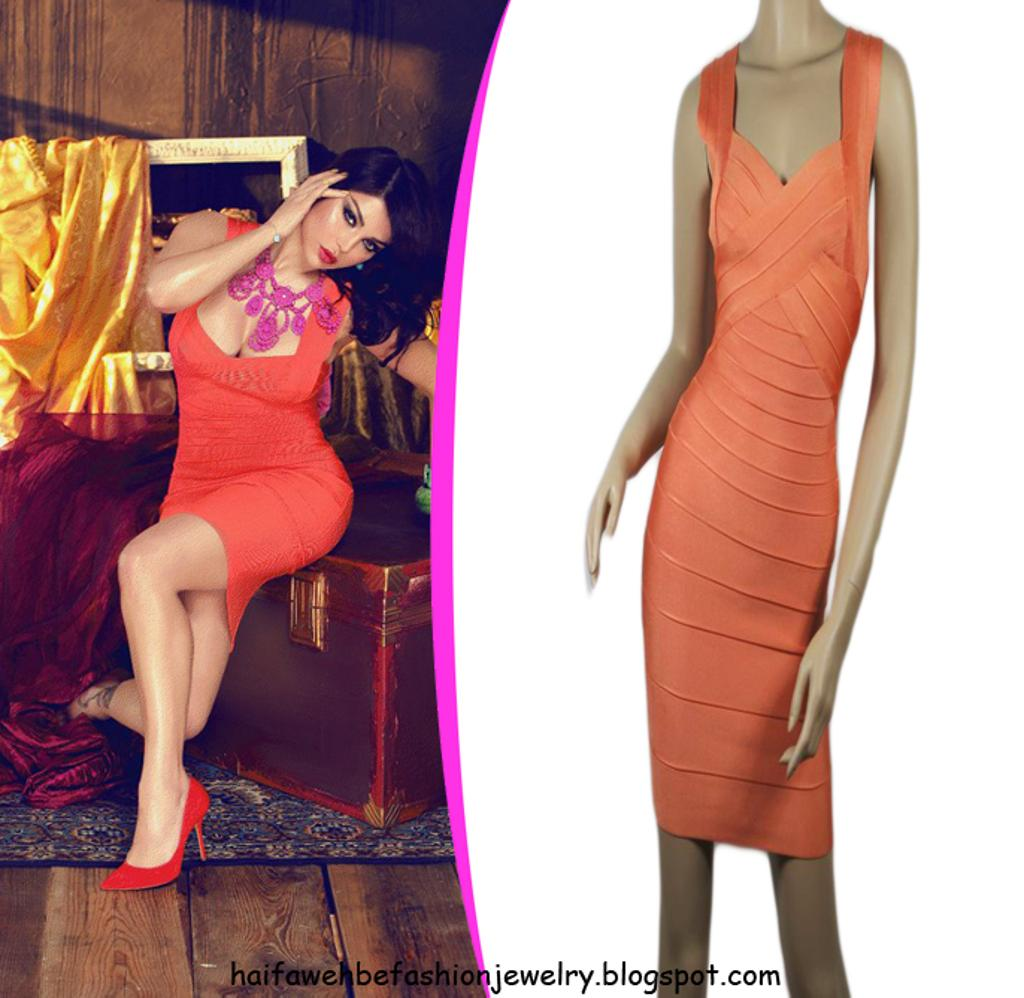face: (300, 182, 390, 270)
